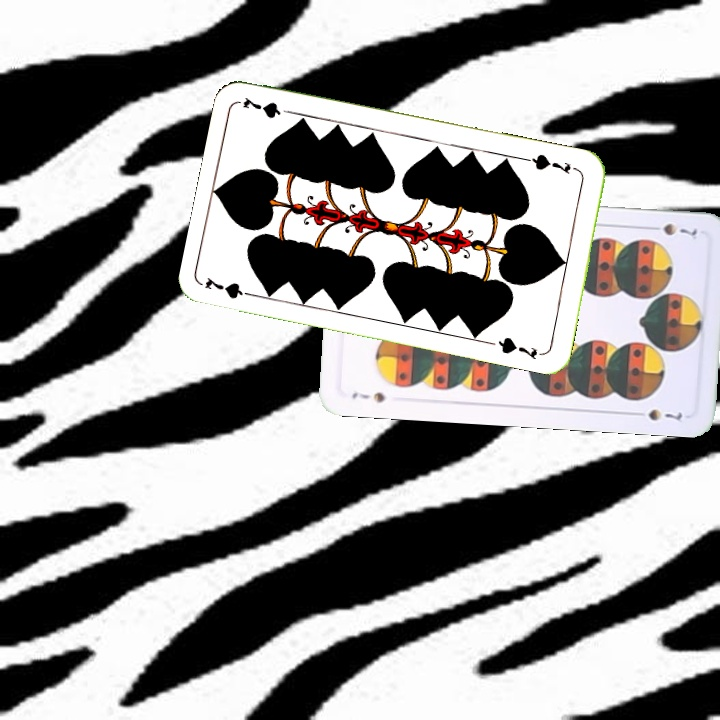G7: (201, 274, 260, 302), (523, 150, 573, 177)
S7: (644, 219, 700, 239), (348, 388, 387, 406)
